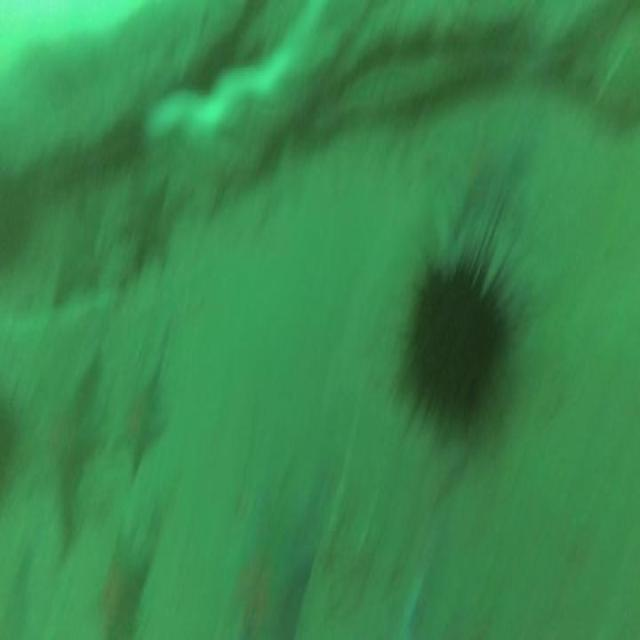echinus: (397, 242, 506, 434)
starfish: (27, 351, 108, 561), (219, 499, 313, 638), (436, 118, 534, 246), (117, 354, 169, 479), (93, 528, 151, 638)
